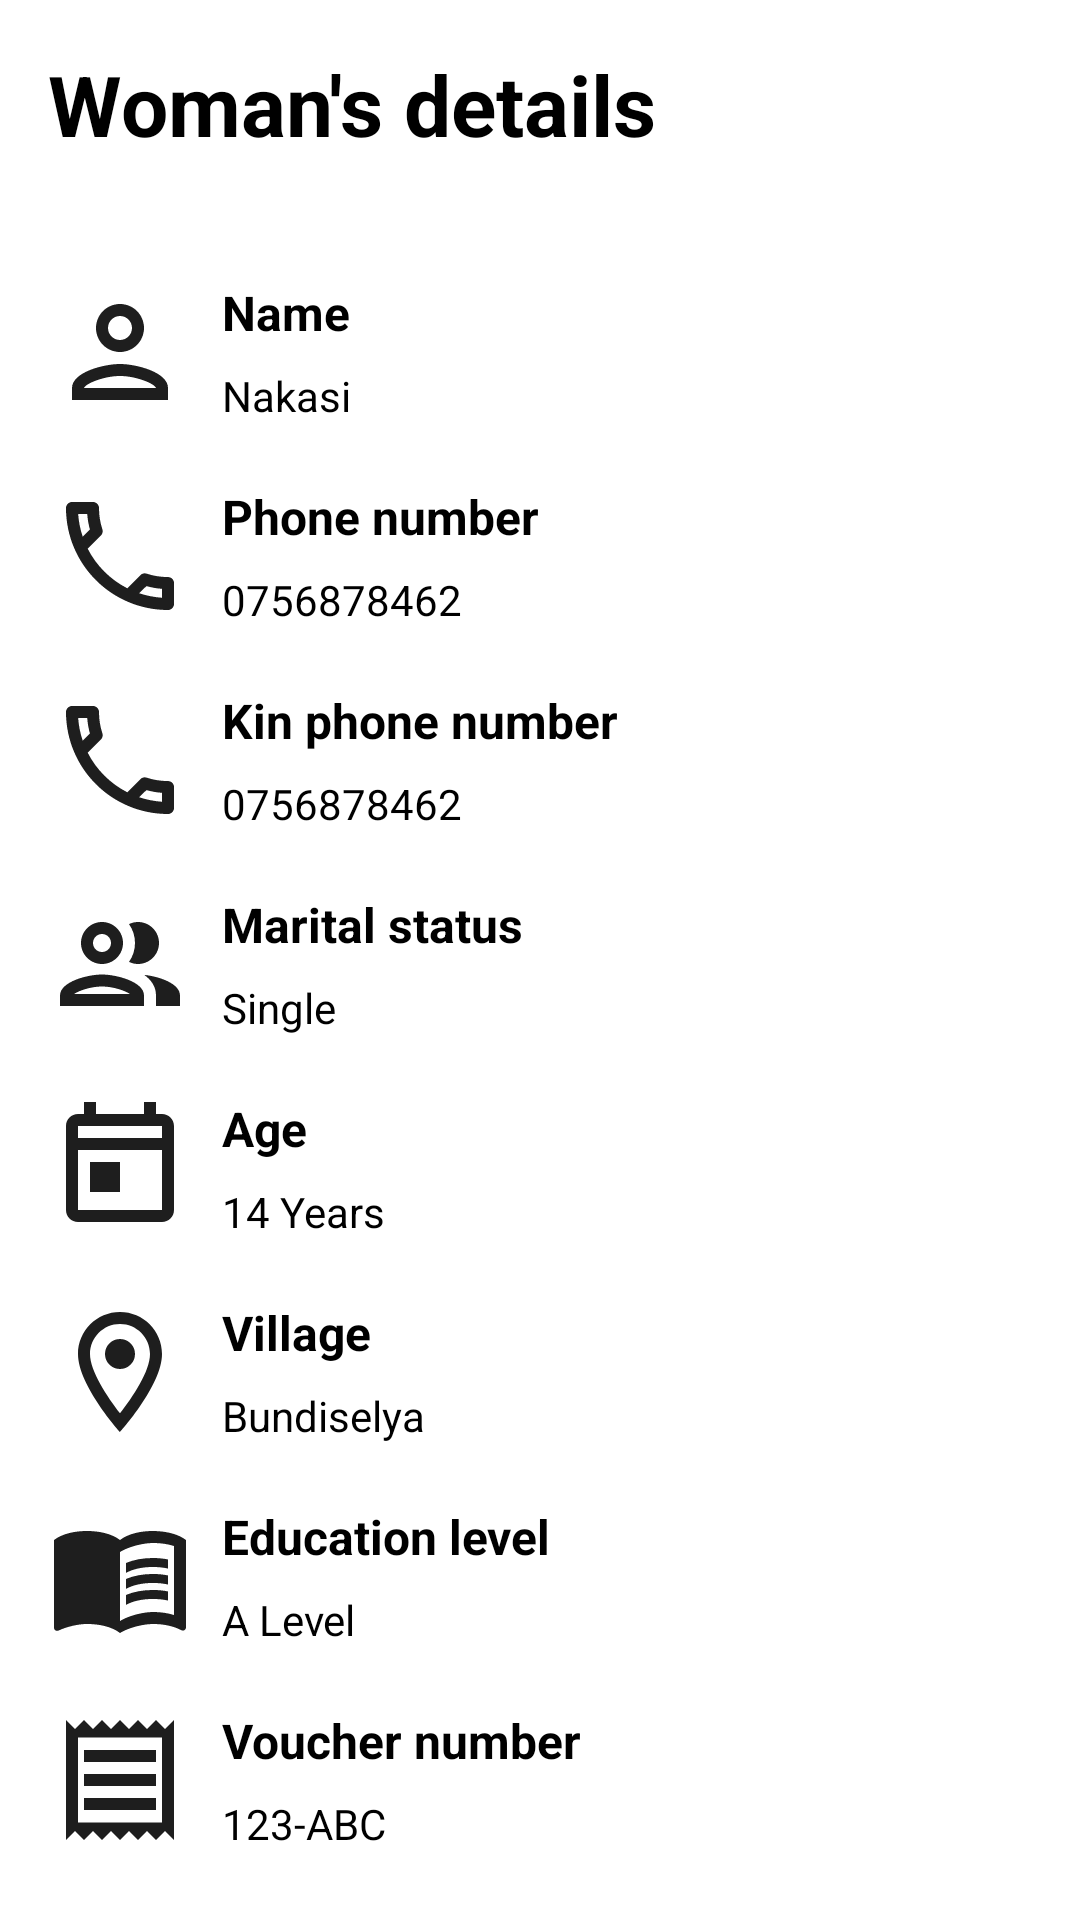

Icons on this 1080×1920 Android screen, each with the point to tap as (x=x, y=y):
book: (x=120, y=1582)
local phone: (x=120, y=556), (x=120, y=760)
location on: (x=120, y=1372)
people: (x=120, y=964)
person: (x=120, y=352)
receipt: (x=120, y=1780)
today: (x=120, y=1162)
